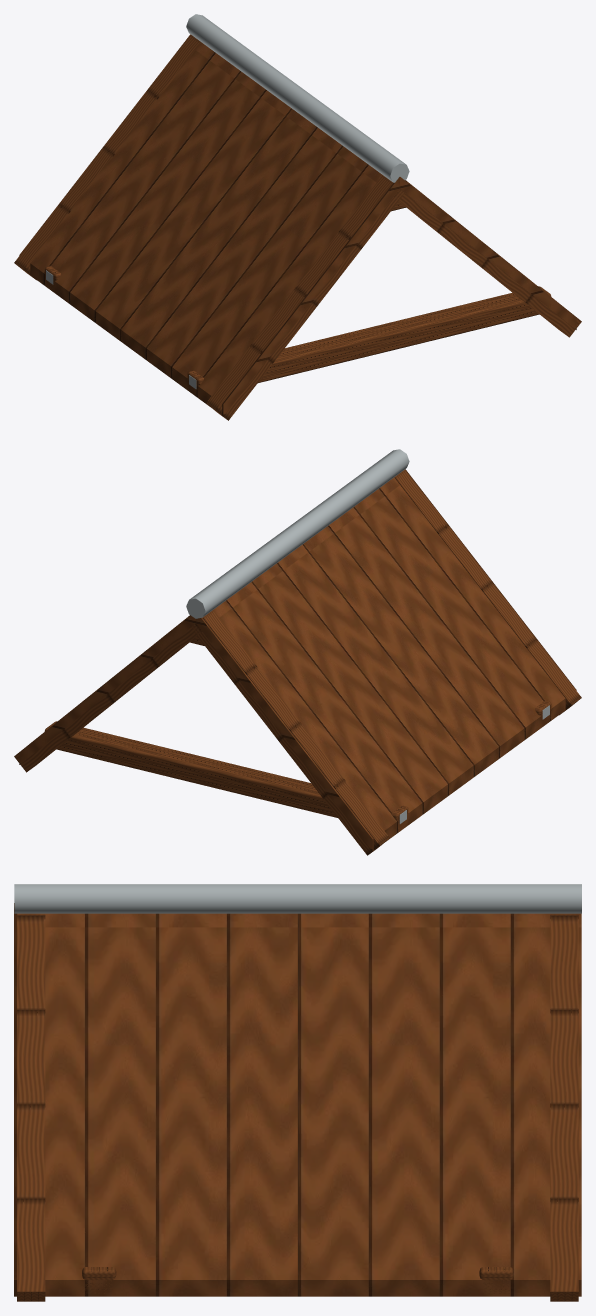
File: modular-survival-base-builder-roof-gable-span-reinforc-b25fa4d5__24308.glb
3 views of the same model, one above another, from view 1: azimuth 30°, elevation 25°; view 2: azimuth 150°, elevation 25°; view 3: azimuth 270°, elevation 25° (orthographic). The views are drawn at different scales.
Visible parts, largest first — view 1: roof-gable-span-reinforced; view 2: roof-gable-span-reinforced; view 3: roof-gable-span-reinforced.
Boxes of the visible parts, x1,y1,x2,y2 form: roof-gable-span-reinforced: (14,14,581,420); roof-gable-span-reinforced: (14,449,581,855); roof-gable-span-reinforced: (14,884,581,1301).
Size of the model in its own units: 2.07 by 1.17 by 2.
2 materials, 1 textured.
